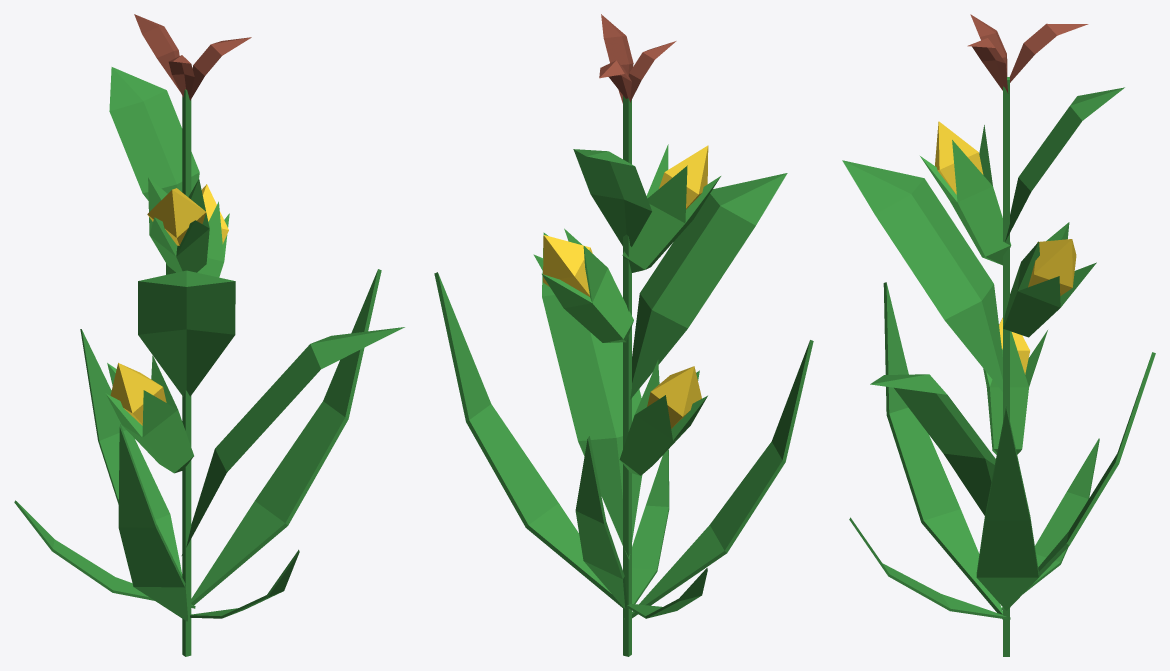
File: plant_001.glb
3 renders of one model, left to right at view 1: azimuth 30°, elevation 25°; view 2: azimuth 150°, elevation 25°; view 3: azimuth 270°, elevation 25°, orthographic. The views are drawn at different scales.
Visible parts, largest first — view 1: plant_001; view 2: plant_001; view 3: plant_001.
Boxes of the visible parts, x1,y1,x2,y2 form: plant_001: (14, 14, 404, 656); plant_001: (434, 14, 813, 656); plant_001: (842, 14, 1155, 656).
Bounding box in the file's own units: 1.44 × 2.66 × 1.19.
Materials: 1 (1 with a texture image).
